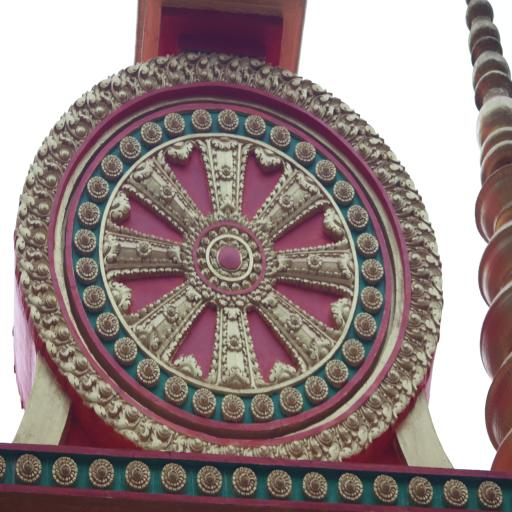hoa: (159, 462, 191, 497), (14, 454, 47, 486), (123, 460, 156, 492), (51, 456, 82, 488), (230, 469, 260, 500), (264, 469, 294, 500), (407, 475, 436, 507), (194, 468, 224, 497), (73, 224, 97, 260), (136, 356, 160, 391), (302, 473, 330, 503), (113, 334, 137, 368), (78, 199, 102, 232), (88, 460, 116, 488), (373, 475, 401, 503), (119, 132, 143, 164), (72, 258, 99, 286), (337, 474, 364, 502), (165, 375, 188, 406), (142, 117, 165, 148), (443, 480, 470, 506), (243, 112, 267, 141), (480, 481, 504, 510), (192, 387, 215, 417), (97, 310, 119, 341), (250, 394, 274, 422), (224, 391, 244, 422), (192, 106, 213, 135), (270, 122, 291, 150), (84, 287, 105, 315), (305, 376, 327, 402), (280, 388, 302, 414), (88, 174, 110, 200), (164, 112, 186, 138), (218, 106, 239, 133), (344, 340, 364, 368), (102, 151, 122, 179), (355, 313, 376, 339), (316, 157, 336, 184), (359, 230, 379, 257), (361, 284, 380, 311), (296, 138, 316, 163), (349, 203, 367, 229), (329, 360, 346, 386), (364, 259, 383, 282), (334, 181, 353, 203)
la: (257, 283, 328, 364), (135, 280, 208, 352), (99, 224, 188, 279), (130, 159, 195, 233), (260, 171, 322, 238), (202, 128, 248, 216), (276, 242, 360, 289), (212, 304, 255, 388), (106, 274, 132, 315), (170, 351, 202, 381), (164, 136, 198, 164), (266, 356, 297, 386), (328, 286, 349, 330), (253, 141, 280, 175), (322, 207, 344, 243), (109, 187, 128, 227)
